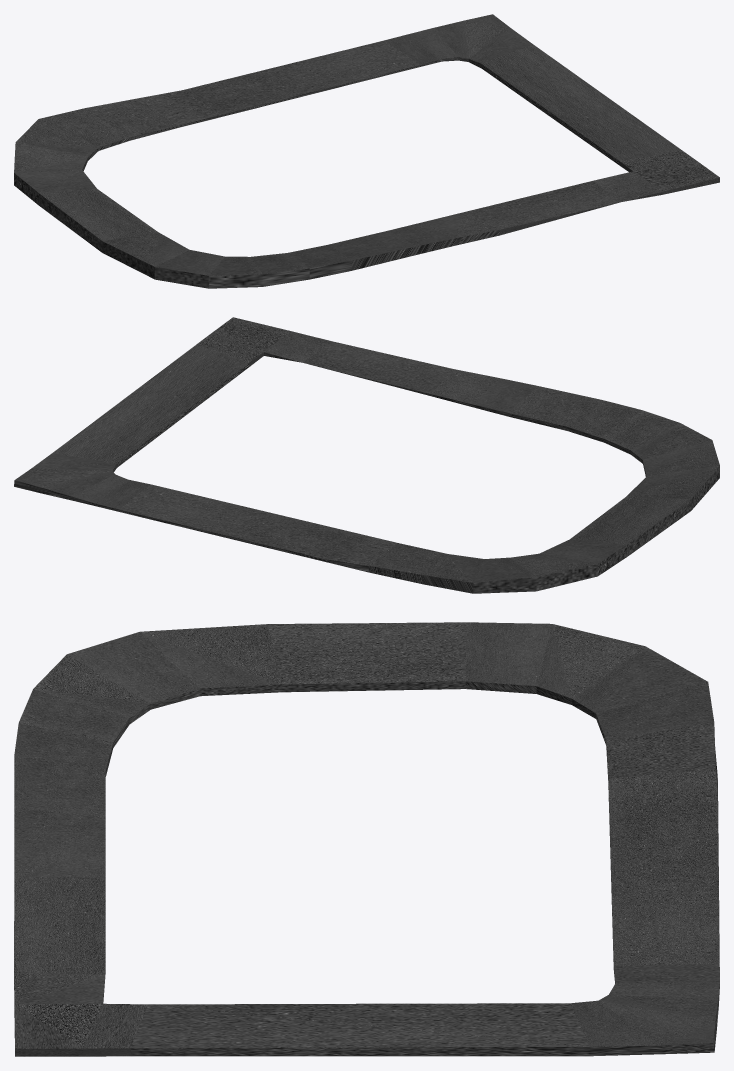
File: racetrack.gltf
The picture shows the model from 3 angles, top to bottom: view 1: azimuth 30°, elevation 25°; view 2: azimuth 150°, elevation 25°; view 3: azimuth 270°, elevation 25°; orthographic projection. The views are drawn at different scales.
Parts seen in each view (by area): view 1: Cube; view 2: Cube; view 3: Cube.
Boxes of the visible parts, box(x1,y1,x2,y2) form: Cube: box(14, 14, 719, 288); Cube: box(14, 317, 719, 593); Cube: box(14, 622, 719, 1056).
Size of the model in its own units: 165 by 5.06 by 120.
1 material, 1 textured.
